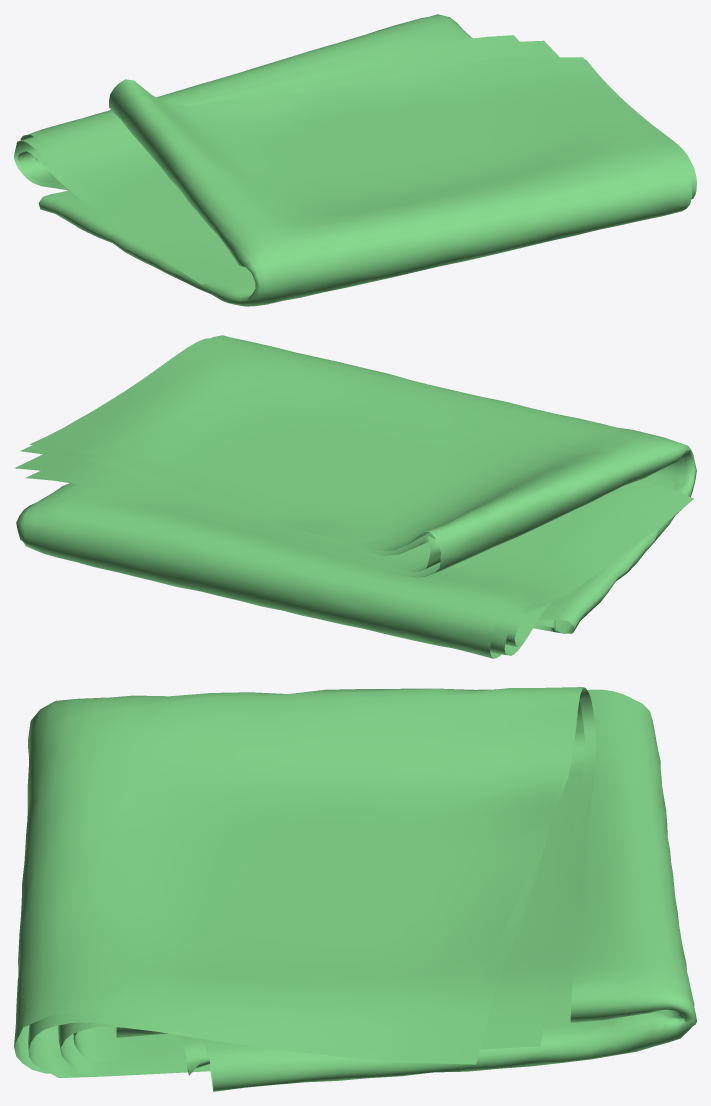
File: A01_Newspaper_01.fbx
3 renders of one model, top to bottom at view 1: azimuth 30°, elevation 25°; view 2: azimuth 150°, elevation 25°; view 3: azimuth 270°, elevation 25°, orthographic. The views are drawn at different scales.
Visible parts, largest first — view 1: SM_Newspaper_01; view 2: SM_Newspaper_01; view 3: SM_Newspaper_01.
Part boxes in pixels (x1,y1,x2,y2): SM_Newspaper_01: (14, 14, 696, 306); SM_Newspaper_01: (14, 335, 696, 658); SM_Newspaper_01: (14, 687, 696, 1091).
Size of the model in its own units: 35.17 by 5.61 by 26.86.
